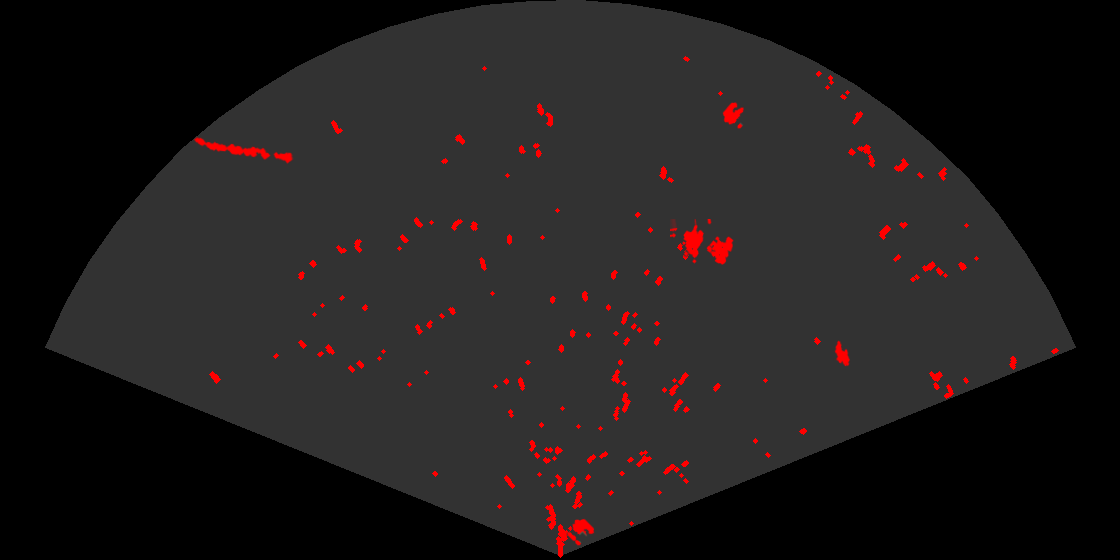AUV: (832, 339, 851, 368)
ball: (566, 517, 596, 547), (721, 101, 746, 130)
cage: (670, 219, 735, 266)
chain: (192, 135, 294, 166)
